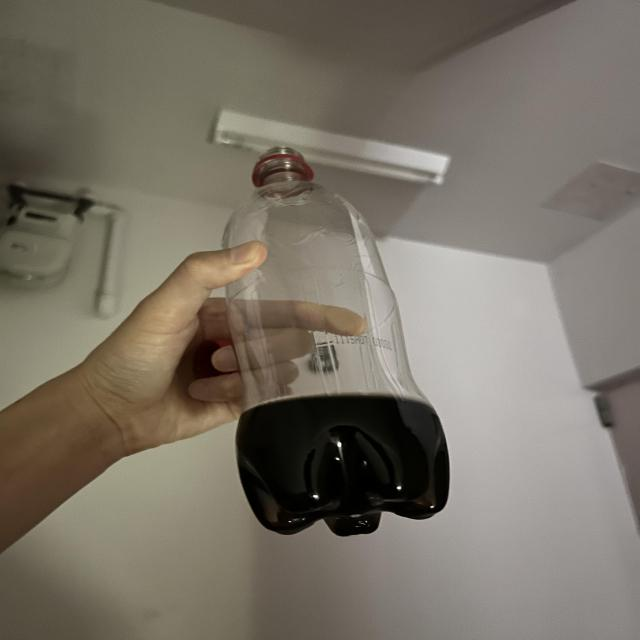low: (225, 156, 449, 536)
